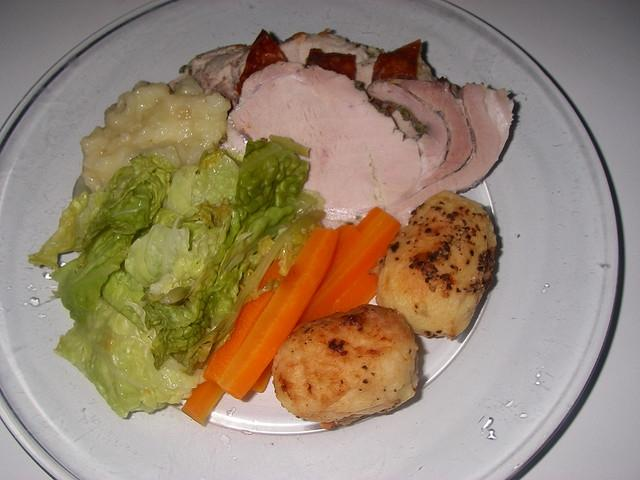carrot: (202, 227, 338, 400), (289, 207, 402, 333), (323, 237, 396, 317), (315, 225, 362, 292), (181, 380, 224, 425)
